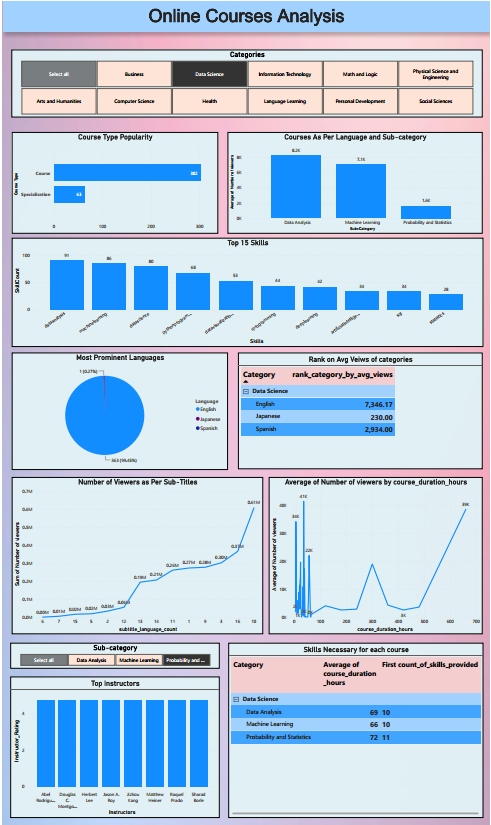

This screenshot's page, from the dashboard's own definition file:
{"tool":"powerbi","page":{"name":"Page 1","canvas":[1300,2200],"ordinal":0},"visuals":[{"type":"textbox","box":[0,0,1300,81.7],"z":0},{"type":"slicer","title":"Categories","fields":{"Values":["Online_Courses.Category"]},"box":[23.3,130,1256.7,180],"z":1000},{"type":"barChart","title":"Course Type Popularity","fields":{"Y":["Online_Courses.Course Type"],"Category":["Online_Courses.Course Type"]},"box":[24,350,550,270],"z":2000},{"type":"columnChart","title":"Courses As Per Language and Sub-category","fields":{"Y":["Online_Courses.Number of viewers"],"Category":["Online_Courses.Sub-Category","Online_Courses.Language"]},"box":[600,350,680,270],"z":3000},{"type":"columnChart","title":"Top 15 Skills","fields":{"Category":["skill_count_table.Skills"],"Y":["skill_count_table.SkillCount"]},"box":[24,632,1258,290],"z":4000},{"type":"pieChart","title":"Most Prominent Languages","fields":{"Category":["Online_Courses.Language"],"Y":["Online_Courses.course_id"]},"box":[24,938,576,312],"z":5000},{"type":"pivotTable","title":"Rank on Avg Veiws of categories","fields":{"Rows":["Online_Courses.Category","Online_Courses.Language"],"Values":["Online_Courses.rank_category_by_avg_views"]},"box":[628,938,652,310],"z":6000},{"type":"lineChart","title":"Number of Viewers as Per Sub-Titles","fields":{"Y":["Online_Courses.Number of viewers"],"Category":["Online_Courses.subtitle_language_count"]},"box":[24,1270,670,418],"z":7000},{"type":"columnChart","title":"Top Instructors","fields":{"Category":["teachers.Instructors"],"Y":["teachers.Instructor_Rating"]},"box":[20,1802,558,376],"z":8000},{"type":"slicer","title":"Sub-category","fields":{"Values":["teachers.Sub-Category"]},"box":[20,1712,558,68],"z":9000},{"type":"lineChart","fields":{"Category":["Online_Courses.course_duration_hours"],"Y":["Online_Courses.Number of viewers"]},"box":[710,1270,570,418],"z":9001},{"type":"pivotTable","title":"Skills Necessary for each course","fields":{"Rows":["Online_Courses.Category","Online_Courses.Sub-Category"],"Values":["Online_Courses.course_duration_hours","Online_Courses.count_of_skills_provided"]},"box":[602,1712,680,466],"z":9002}]}

Visuals, with their boxes in screenshot pixels (x1, y1, x2, y2), scaled from the page's 1300x2200 canvas onto the 491x825 screenshot:
textbox: bbox=(0, 0, 490, 31)
"Categories" slicer: bbox=(9, 49, 483, 116)
"Course Type Popularity" barChart: bbox=(9, 131, 217, 232)
"Courses As Per Language and Sub-category" columnChart: bbox=(227, 131, 483, 232)
"Top 15 Skills" columnChart: bbox=(9, 237, 484, 346)
"Most Prominent Languages" pieChart: bbox=(9, 352, 227, 469)
"Rank on Avg Veiws of categories" pivotTable: bbox=(237, 352, 483, 468)
"Number of Viewers as Per Sub-Titles" lineChart: bbox=(9, 476, 262, 633)
"Top Instructors" columnChart: bbox=(8, 676, 218, 817)
"Sub-category" slicer: bbox=(8, 642, 218, 668)
lineChart - Online_Courses.course_duration_hours x Online_Courses.Number of viewers: bbox=(268, 476, 483, 633)
"Skills Necessary for each course" pivotTable: bbox=(227, 642, 484, 817)
